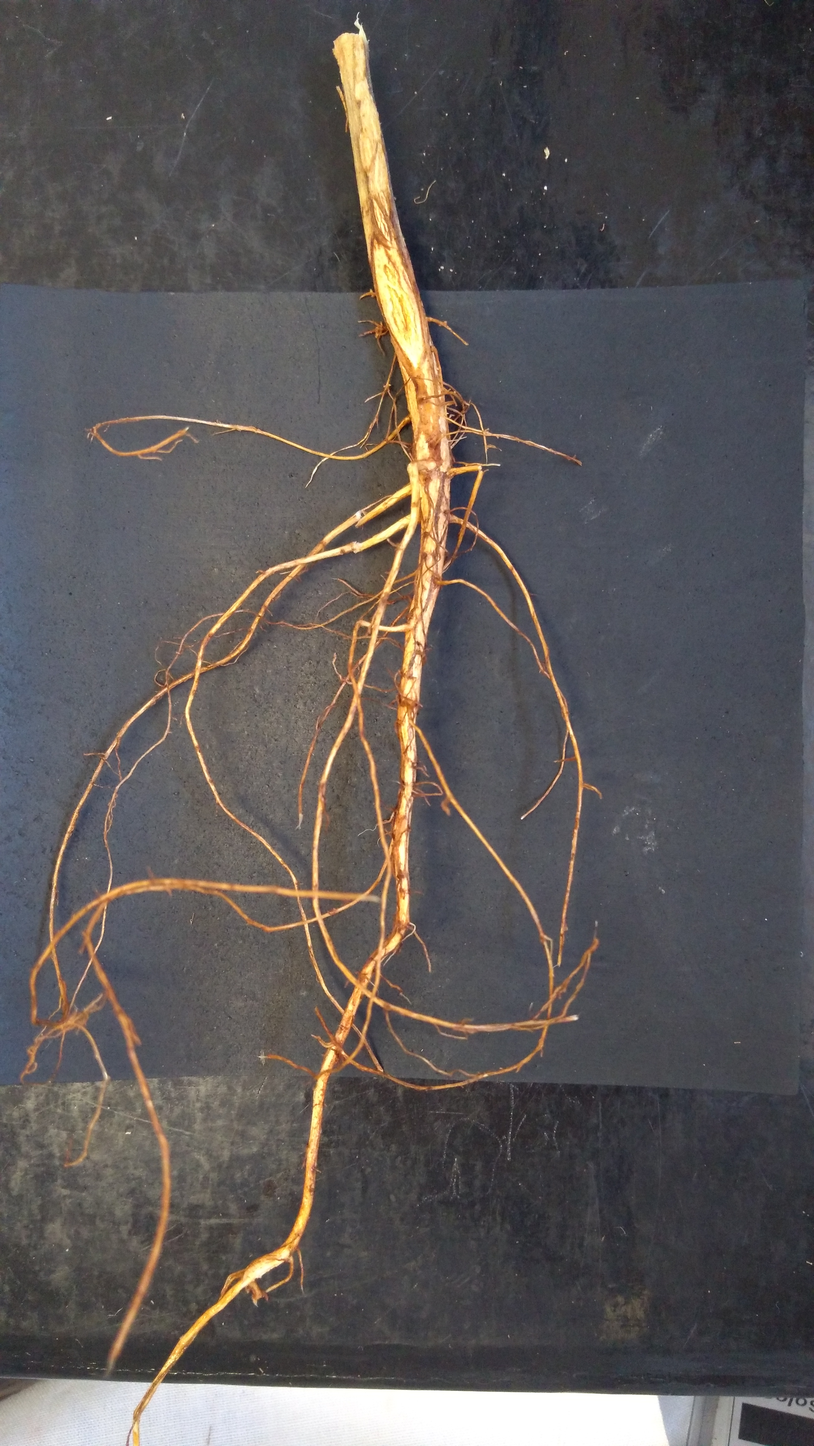nodule: (374, 325, 384, 339), (443, 320, 448, 327)
